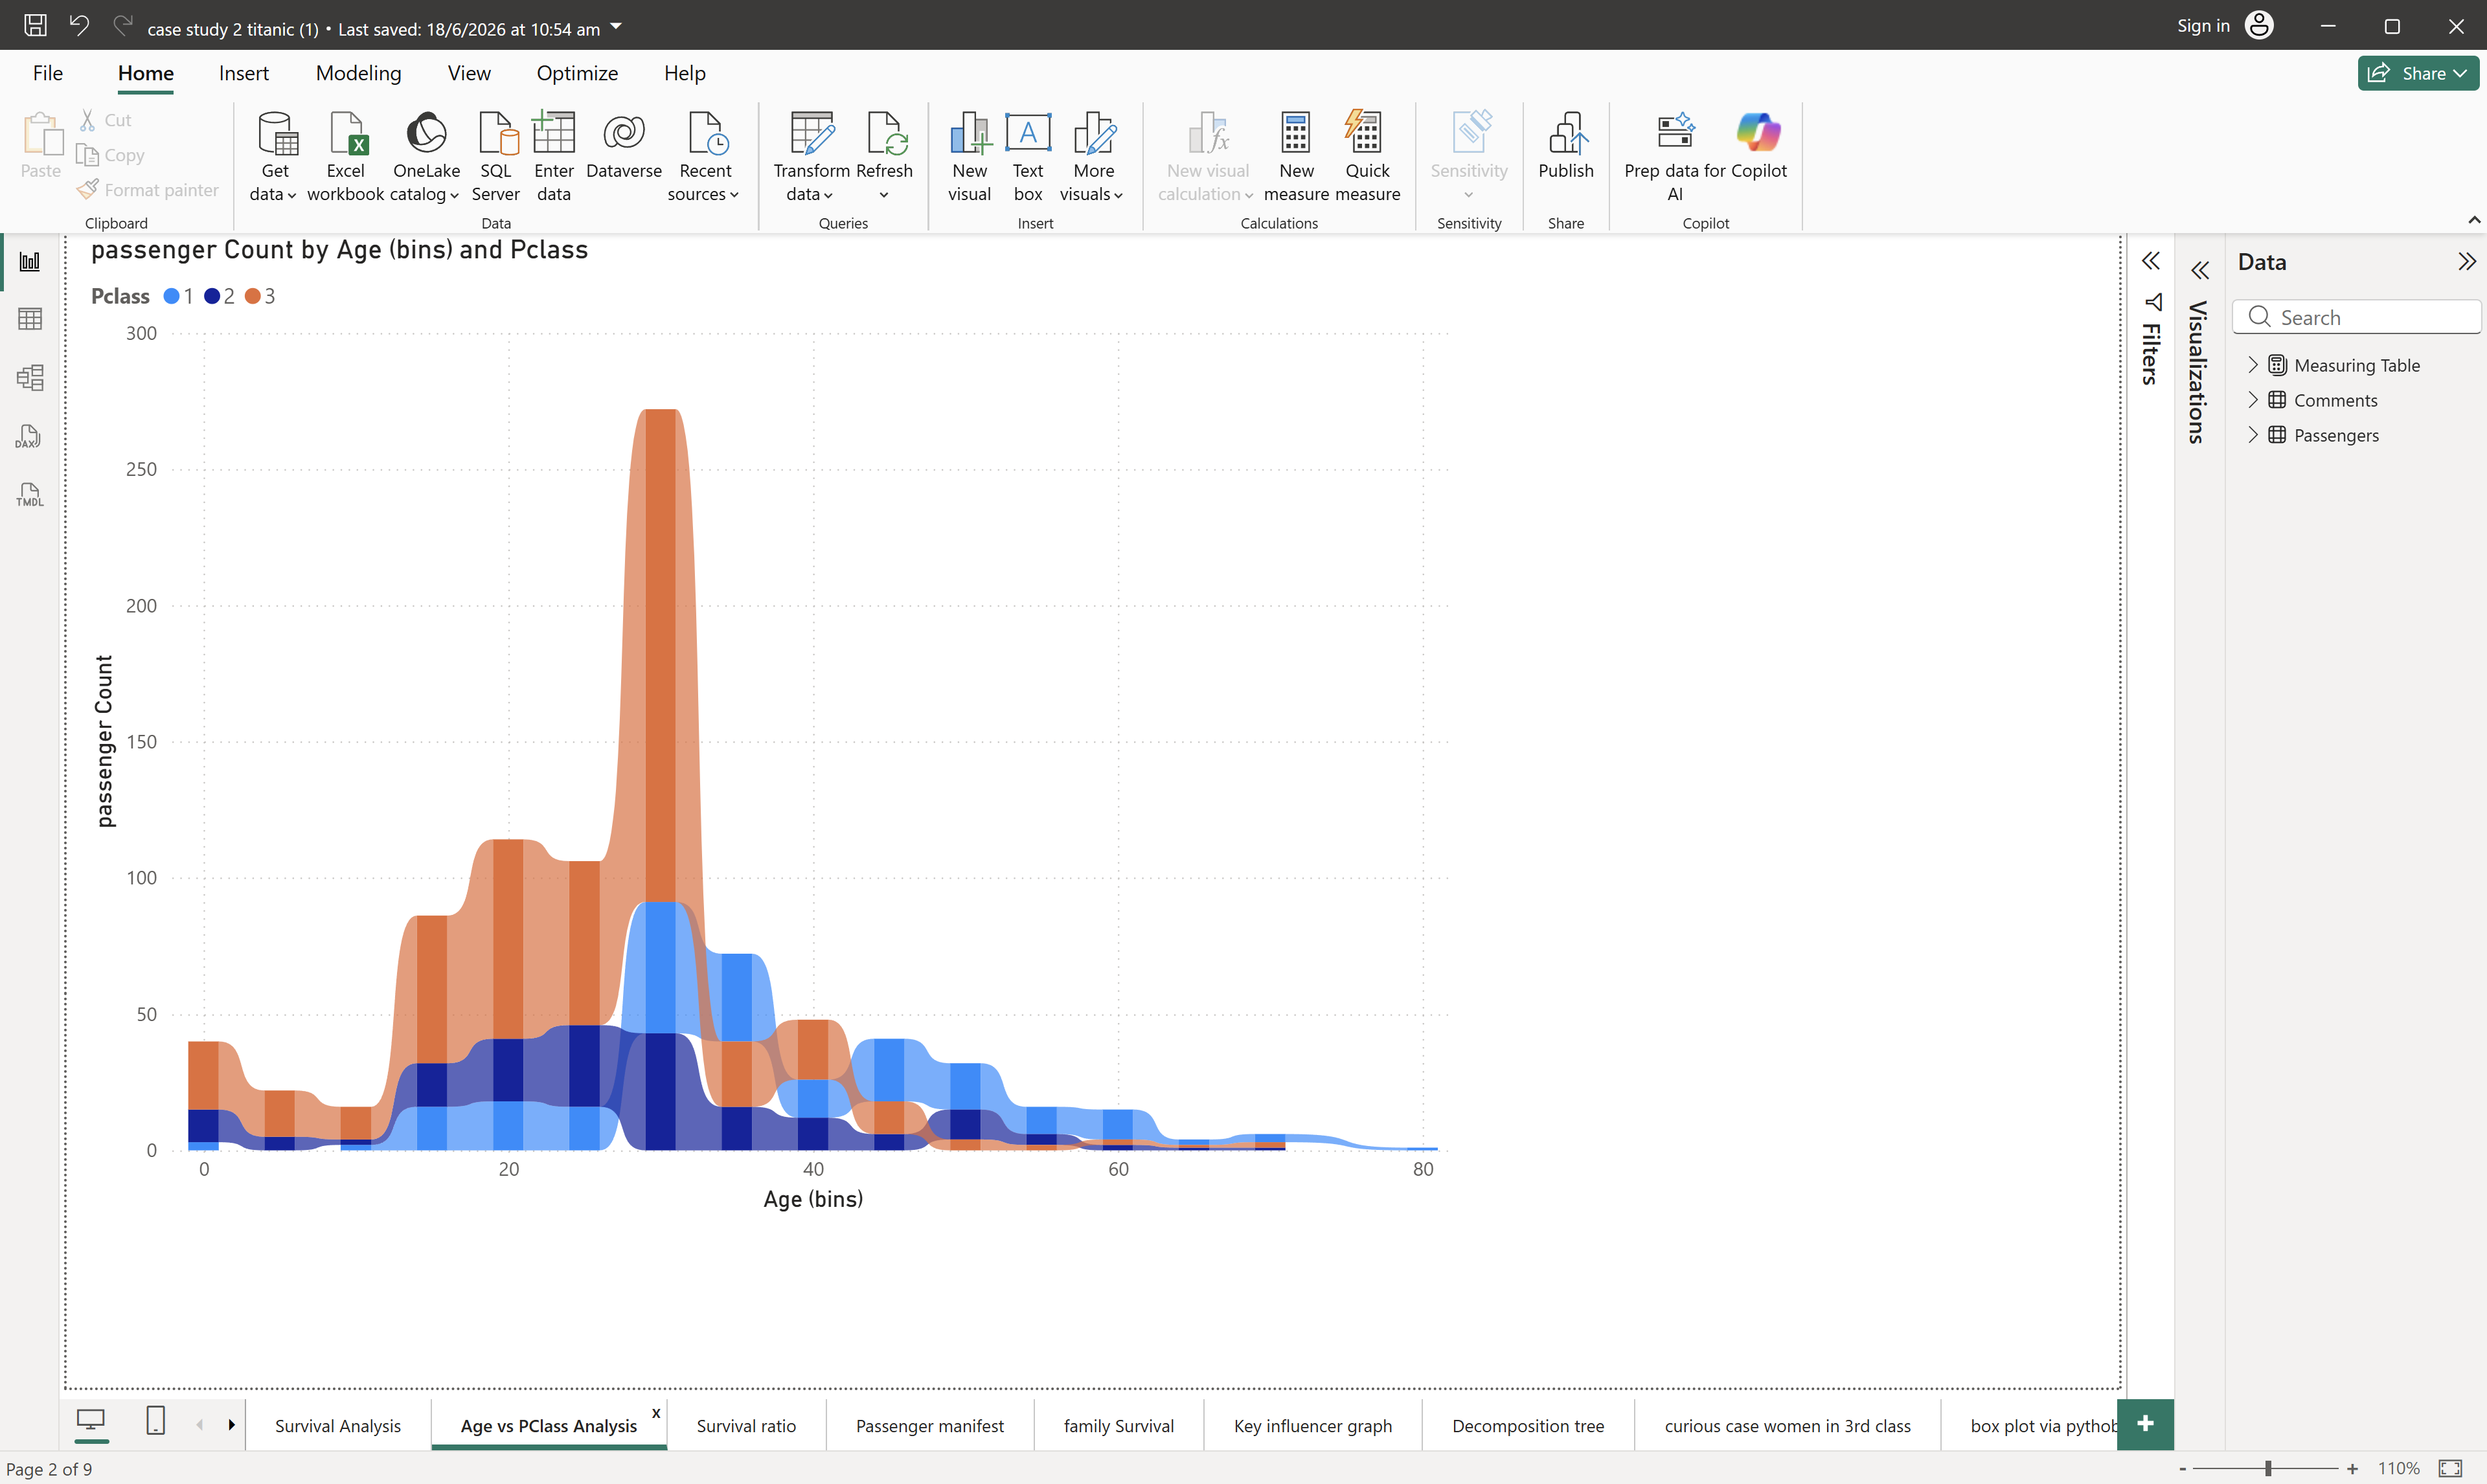

The page's visual inventory and layout, read from the dashboard file:
{"tool":"powerbi","page":{"name":"Age vs PClass Analysis","canvas":[1280,720],"ordinal":1},"visuals":[{"type":"ribbonChart","fields":{"Category":["Passengers.Age (bins)"],"Y":["Measuring Table.passenger Count"],"Series":["Passengers.Pclass"]},"box":[10,0,860,615.6],"z":0}]}

Visuals, with their boxes on the page's 1280x720 design canvas (x1, y1, x2, y2). These are canvas units, not pixel positions in the 2487x1484 screenshot, which may show the page scaled, cropped or inside an application window:
ribbonChart - Passengers.Age (bins) x Measuring Table.passenger Count: box(10, 0, 870, 616)
